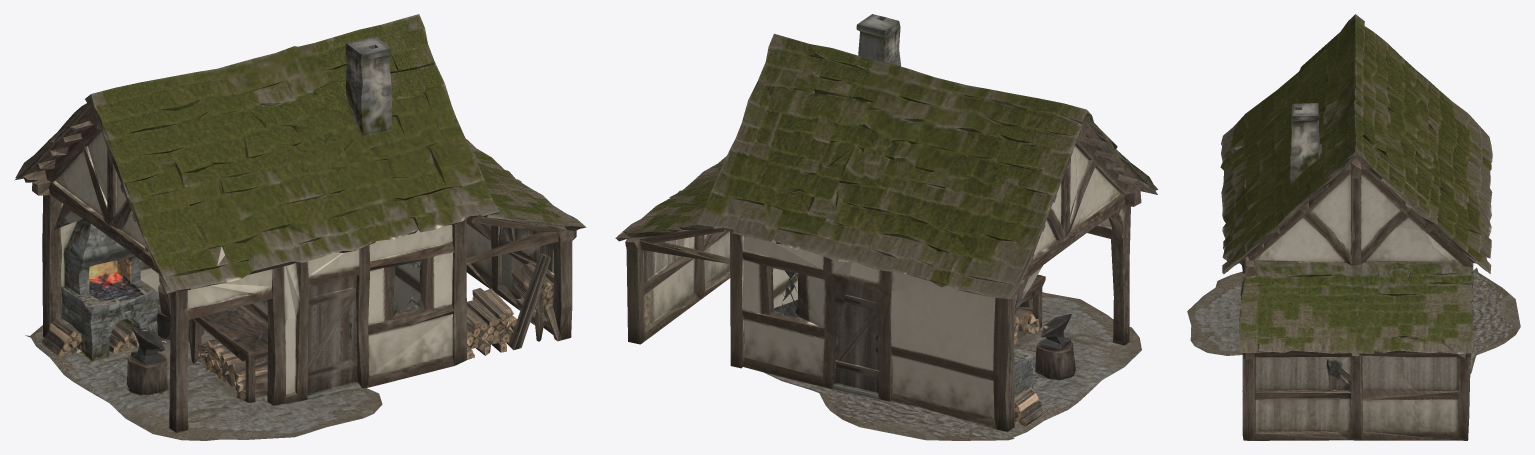
Rendered from FerreiroEldoria.glb.
The picture shows the model from 3 angles, left to right: view 1: azimuth 30°, elevation 25°; view 2: azimuth 150°, elevation 25°; view 3: azimuth 270°, elevation 25°; orthographic projection. The views are drawn at different scales.
Parts seen in each view (by area): view 1: output_unwrapped; view 2: output_unwrapped; view 3: output_unwrapped.
Part boxes in pixels (x1,y1,x2,y2): output_unwrapped: (14, 14, 586, 440); output_unwrapped: (615, 14, 1157, 440); output_unwrapped: (1187, 14, 1520, 440).
Size of the model in its own units: 1.9 by 1.29 by 1.48.
Materials: 1 (1 with a texture image).
